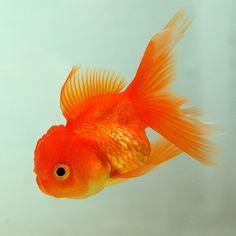goldfish: (20, 62, 216, 206)
